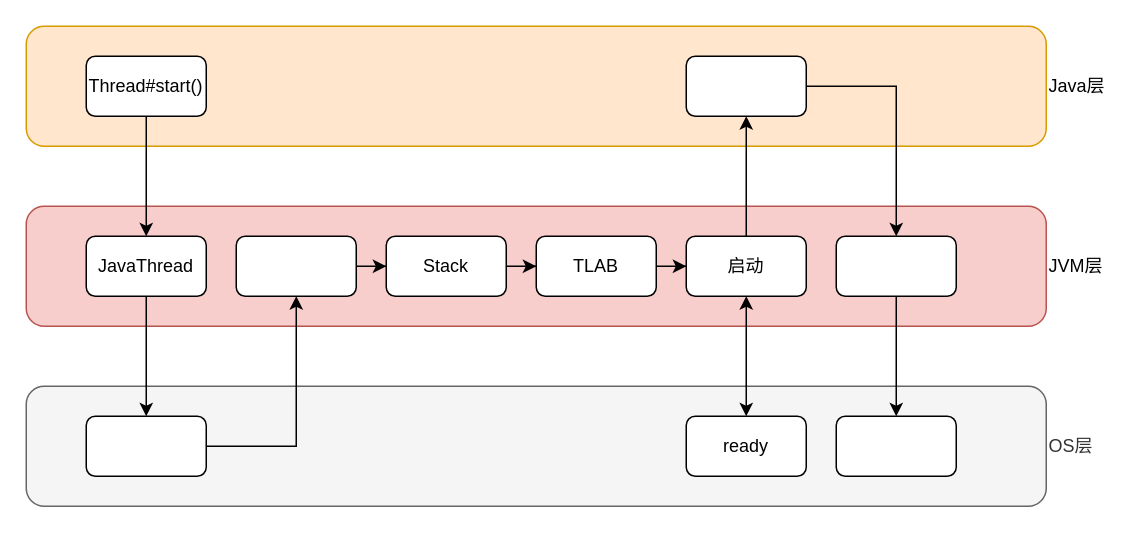
This 1131x533 diagram has some shape labels left out. Each missing label, with the centre of its shape:
OSThread: [295,265]
Terminate: [895,445]
Thread#run(): [745,85]
系统线程: [145,445]
终结: [895,265]
